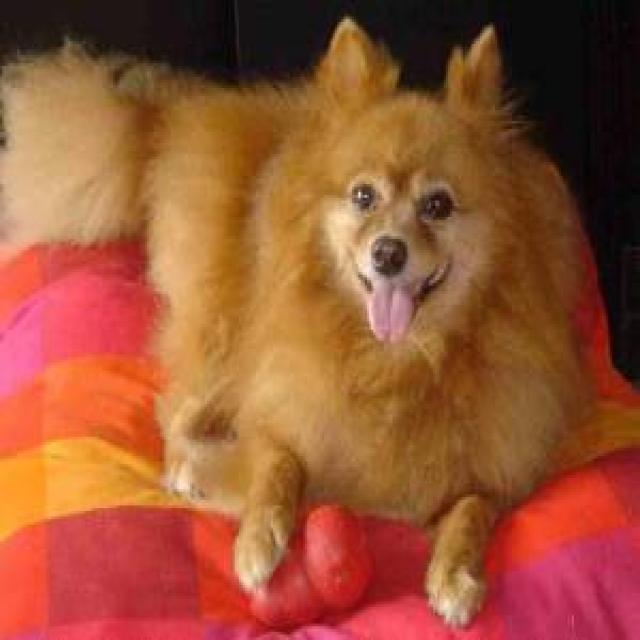dog-pomeranian: (2, 11, 610, 632)
